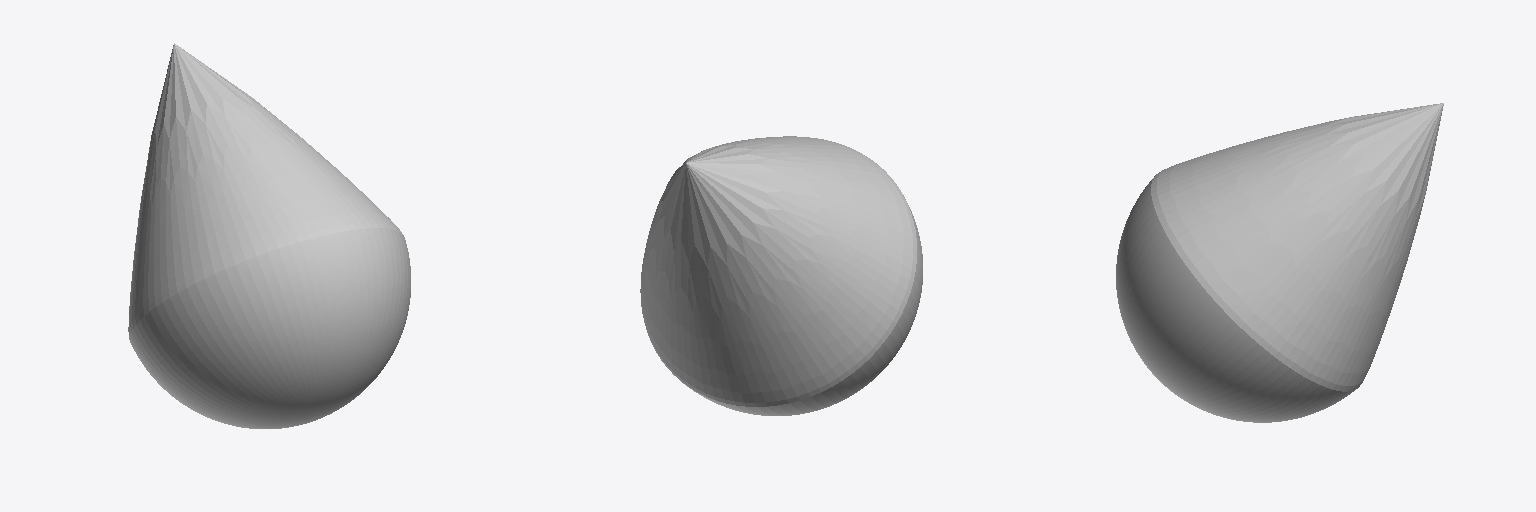
The model's file is E_tail.obj.
3 views of the same model, side by side, from view 1: azimuth 30°, elevation 25°; view 2: azimuth 150°, elevation 25°; view 3: azimuth 270°, elevation 25° (orthographic).
Visible parts, largest first — view 1: tail; view 2: tail; view 3: tail.
Boxes of the visible parts, x1=… form: tail: x1=128, y1=43, x2=410, y2=428; tail: x1=640, y1=136, x2=922, y2=415; tail: x1=1116, y1=103, x2=1443, y2=422.
Size of the model in its own units: 1.96 by 2.26 by 2.19.